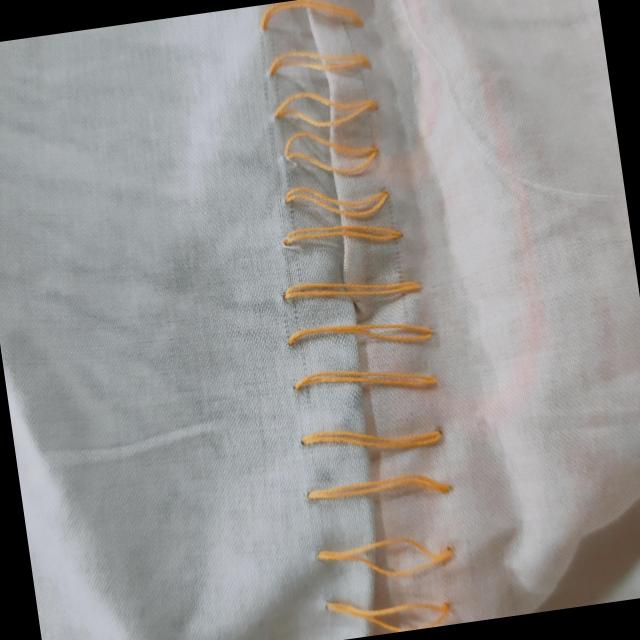gray stitch: (234, 0, 479, 640)
